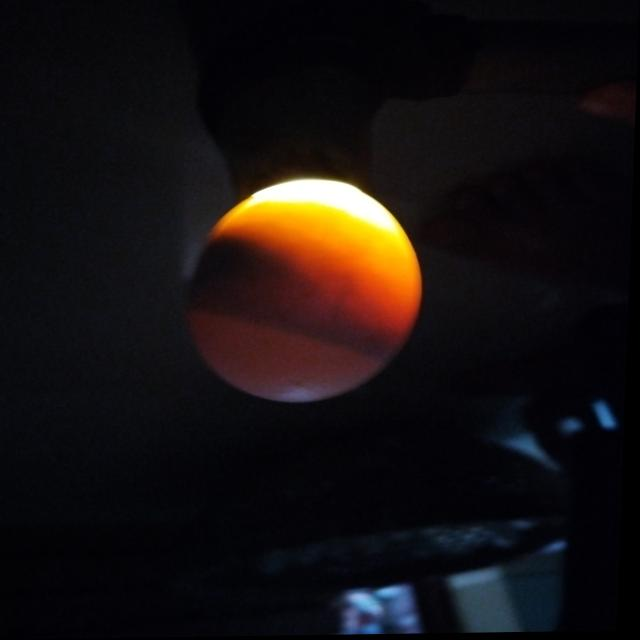Area Infectada: (186, 240, 396, 363)
